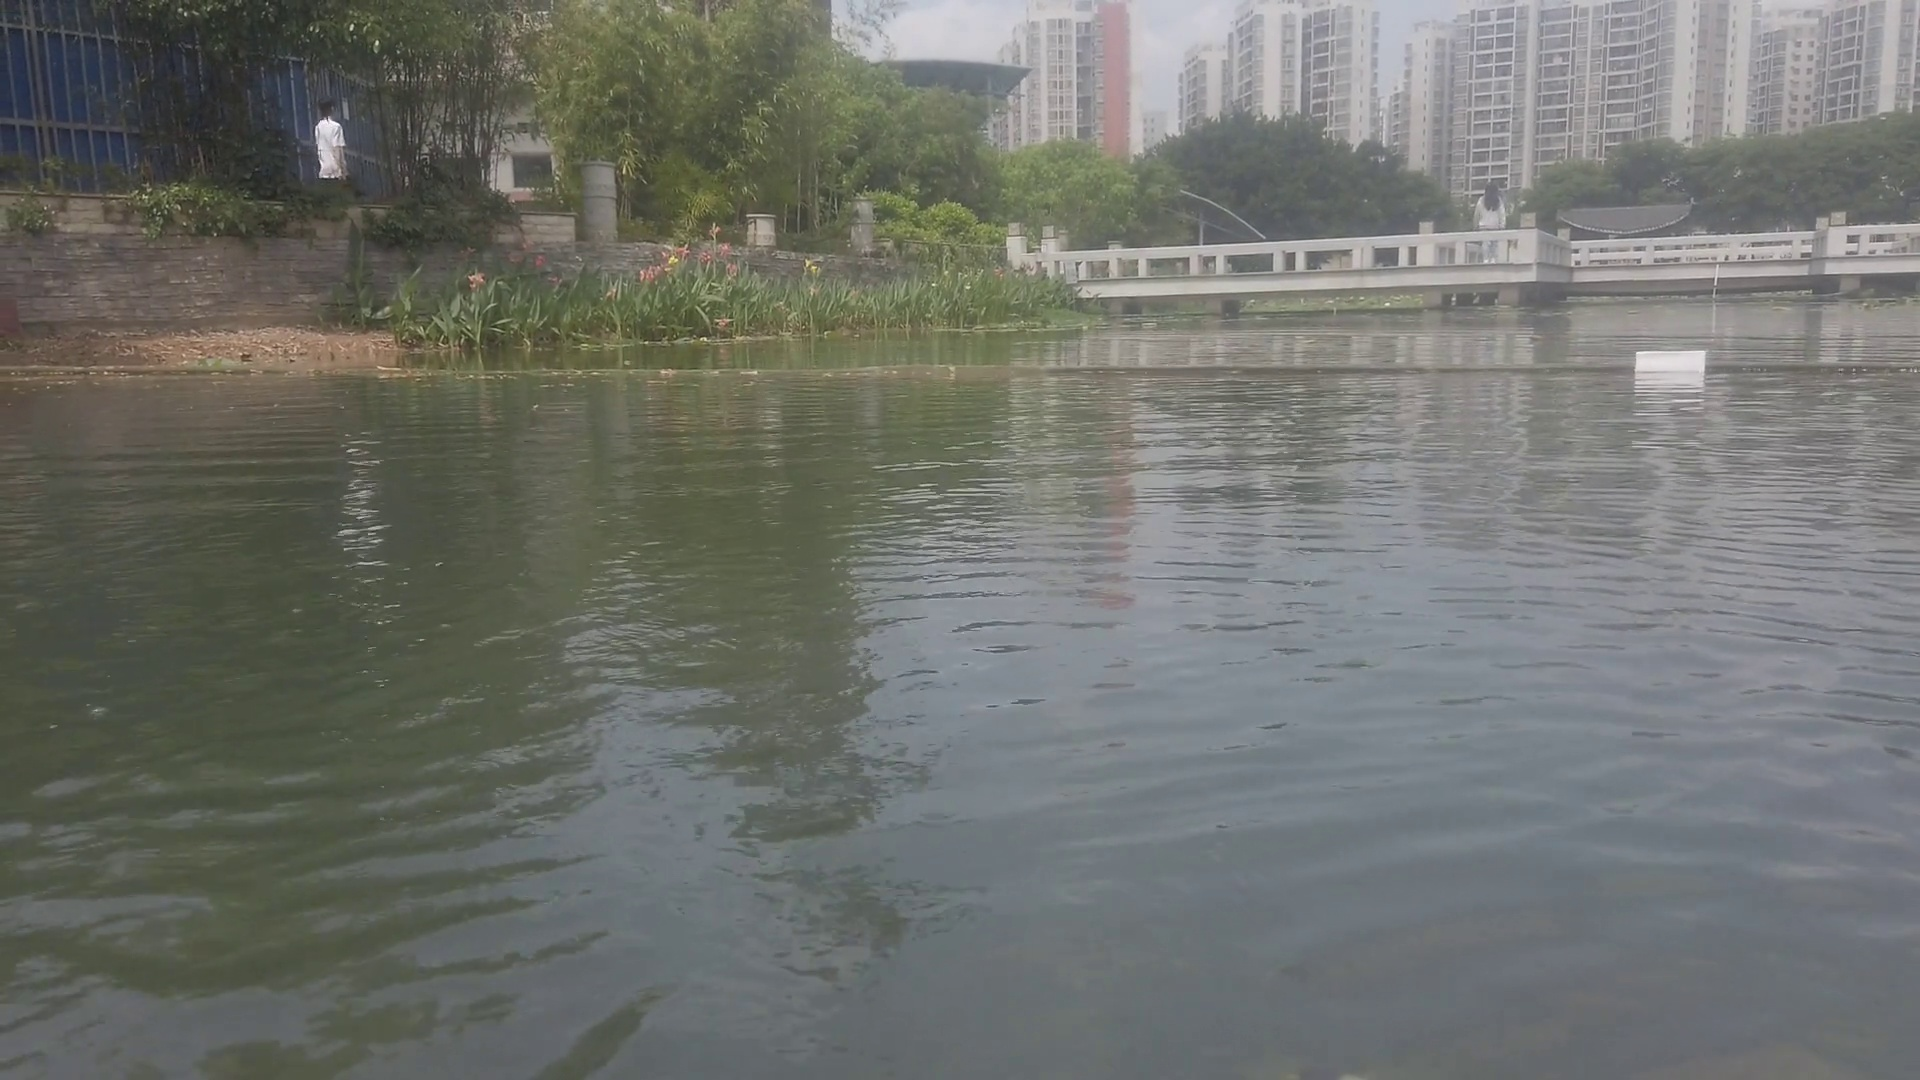carton: (1633, 344, 1712, 375)
